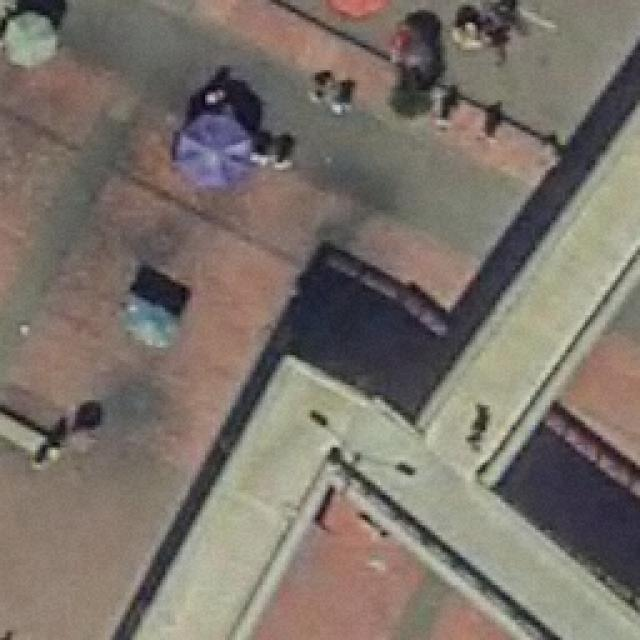vendedor_ambulante: (169, 104, 262, 193), (1, 7, 66, 74)
